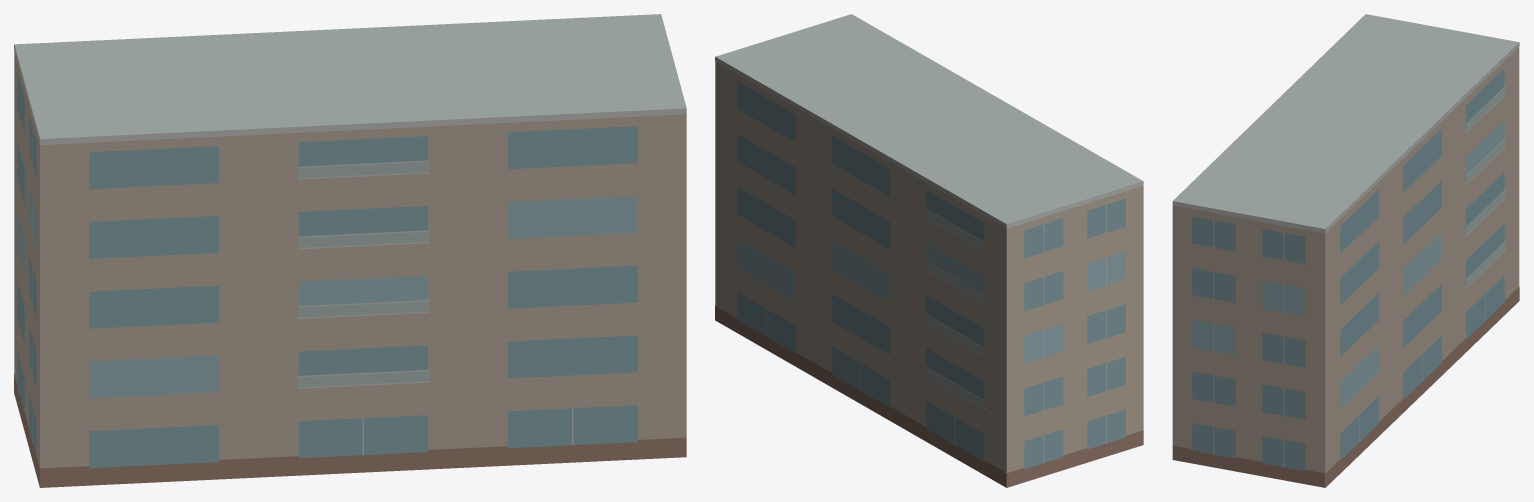
Rendered from survey-upis-32995080.glb.
3 renders of one model, left to right at view 1: azimuth 30°, elevation 25°; view 2: azimuth 150°, elevation 25°; view 3: azimuth 270°, elevation 25°, orthographic. The views are drawn at different scales.
Visible parts, largest first — view 1: survey-upis-32995080.tmp; view 2: survey-upis-32995080.tmp; view 3: survey-upis-32995080.tmp.
Boxes of the visible parts, x1=… form: survey-upis-32995080.tmp: x1=14, y1=14, x2=686, y2=487; survey-upis-32995080.tmp: x1=715, y1=14, x2=1143, y2=487; survey-upis-32995080.tmp: x1=1172, y1=14, x2=1519, y2=487.
Bounding box in the file's own units: 25.32 × 14.2 × 17.26.
